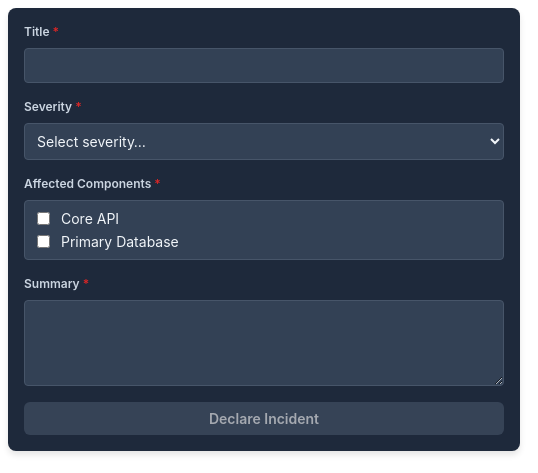
it: IncidentForm › re-disables the submit button if a previously valid field is cleared
The width and height of the screenshot is (538, 473).
Type "API latency spike" into the field with test id "incident-title-input" at {"x": 264, "y": 66}, box left=24, top=48, right=504, bottom=83
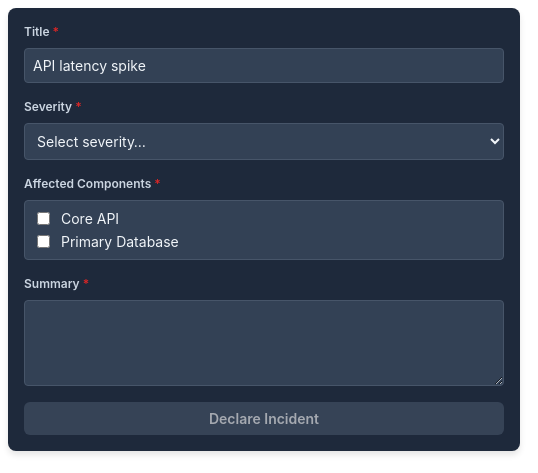
Select "SEV2" in the dropdown with test id "incident-severity-select" at {"x": 264, "y": 142}, box left=24, top=123, right=504, bottom=160
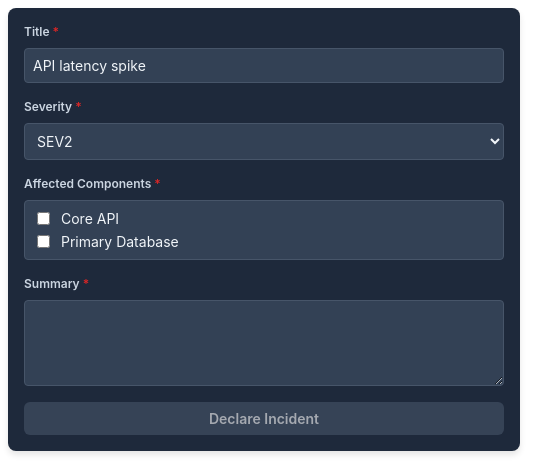
Click the checkbox labelled "Core API" at {"x": 44, "y": 218}, box left=37, top=212, right=50, bottom=225
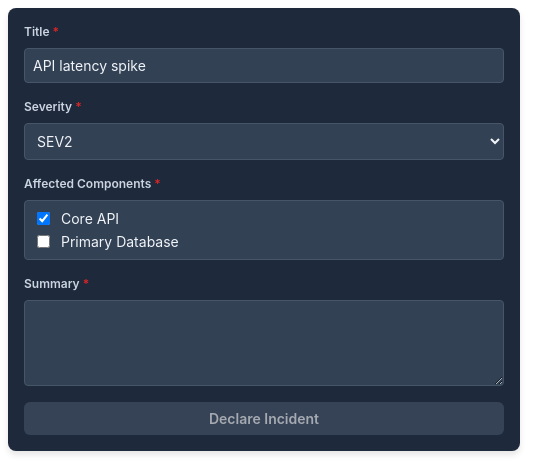
Type "Elevated p99 latency on the core API." into the text box with test id "incident-summary-input" at {"x": 264, "y": 343}, box left=24, top=300, right=504, bottom=386
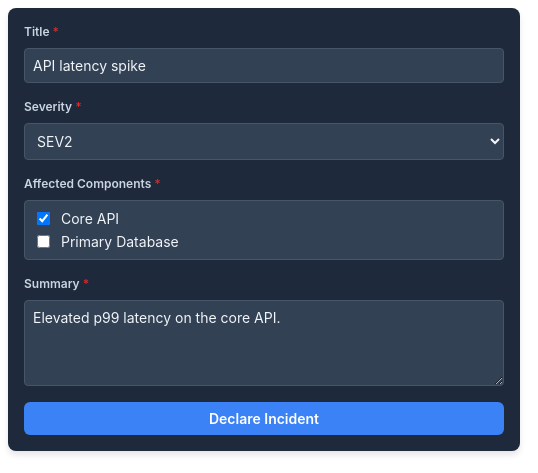
Expected: the button with test id "incident-submit-button" is enabled, left=24, top=402, right=504, bottom=435
Clear the field with test id "incident-title-input" at {"x": 264, "y": 66}, box left=24, top=48, right=504, bottom=83
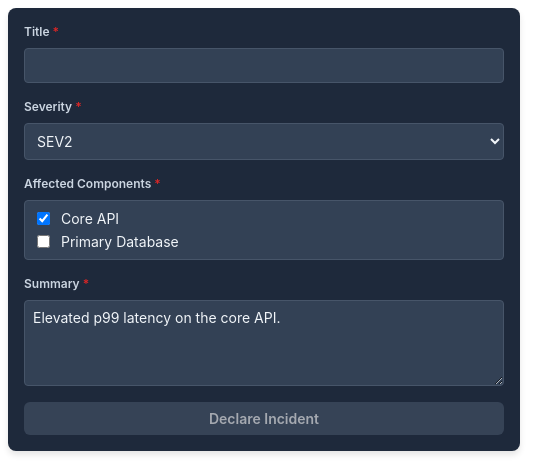
Expected: the button with test id "incident-submit-button" is disabled, left=24, top=402, right=504, bottom=435
